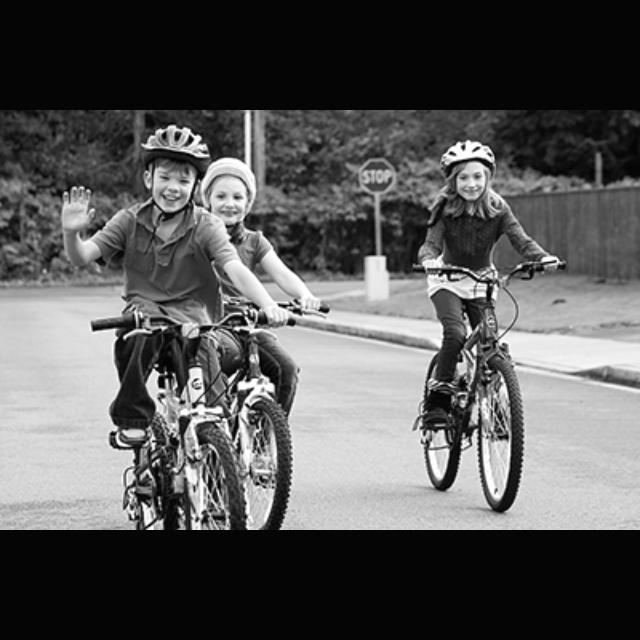With Helmet: (136, 121, 204, 212), (432, 137, 498, 201)
